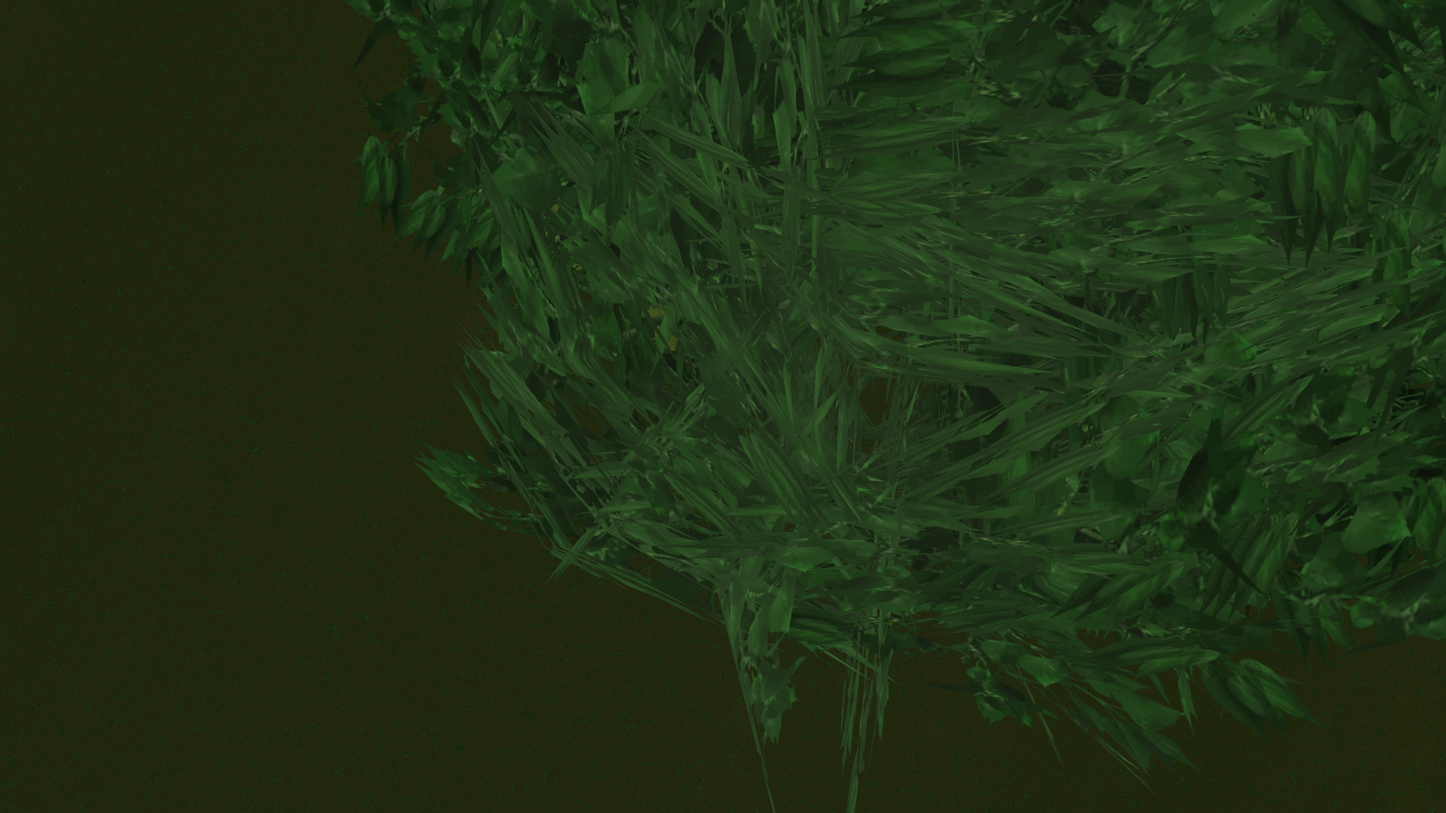pangolin: (443, 53, 739, 426)
